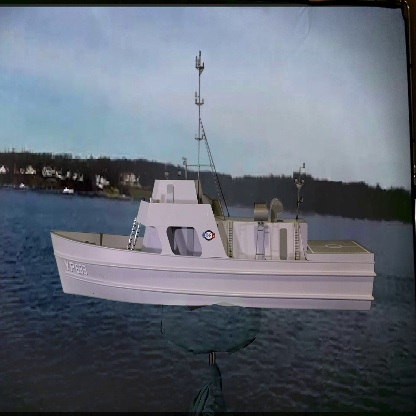YP689: (47, 49, 384, 313)
